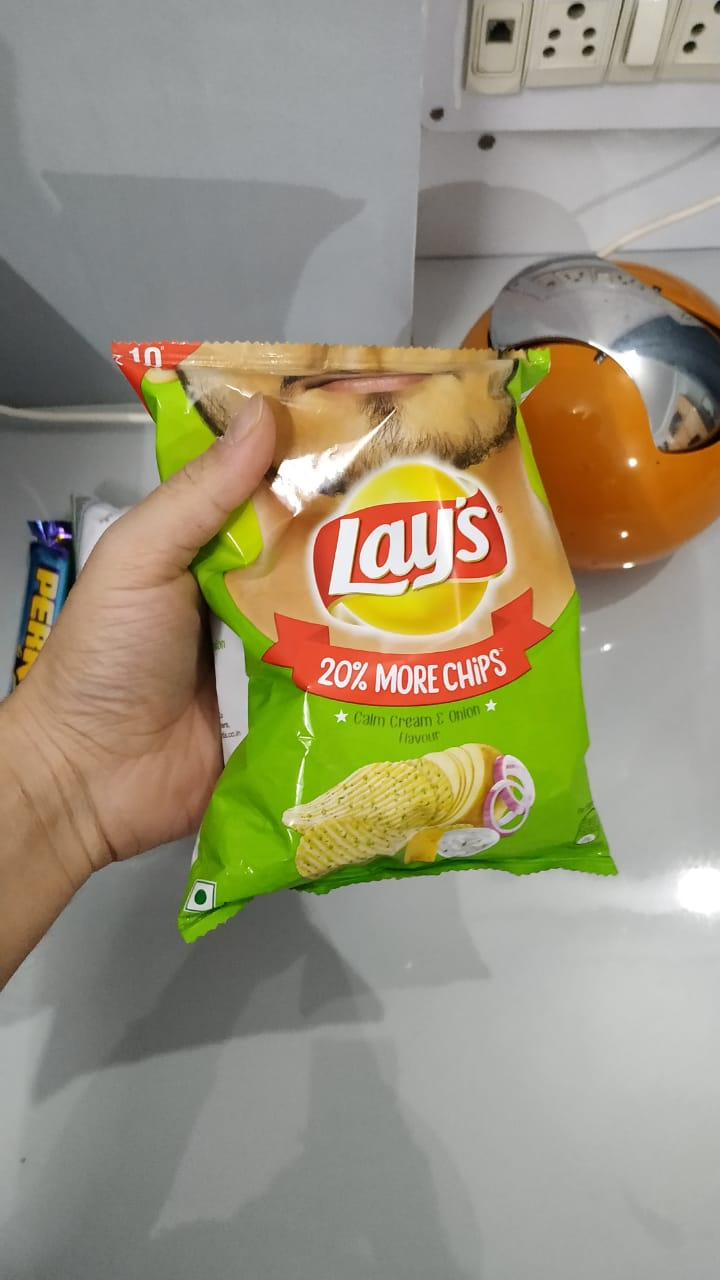lays chips: (109, 333, 635, 939)
